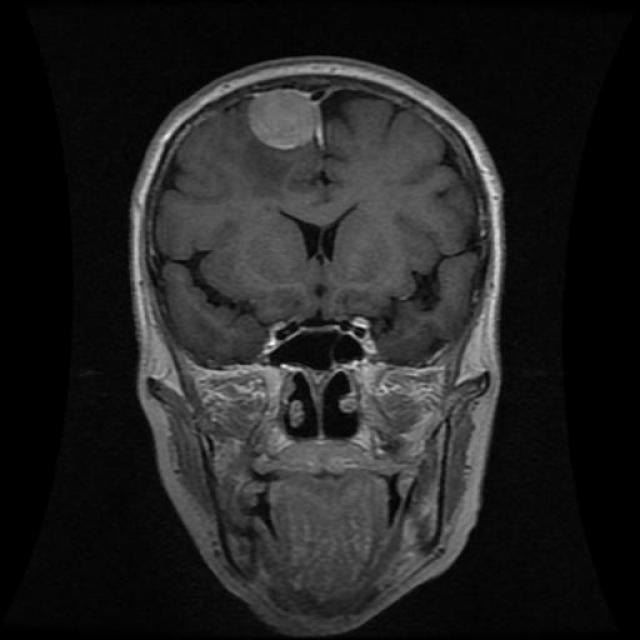Brain-Tumor: (236, 75, 343, 163)
